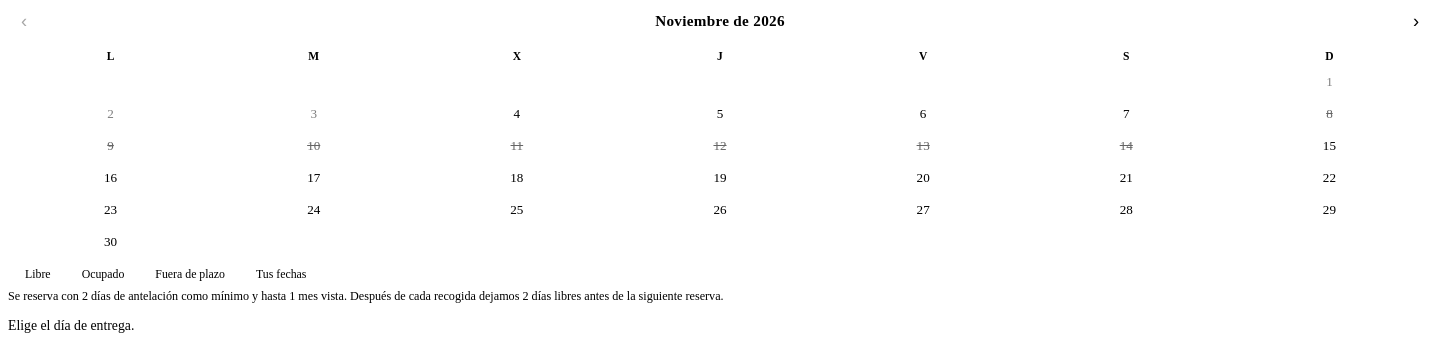
Test: CalendarioReserva — elegir las fechas › el primer clic es la entrega y el segundo la recogida
Expected: the text with class "cal-reserva-instrucciones" reads "Elige el día de entrega.", [8,318,134,333]
Click the button named "miércoles, 4 de noviembre de 2026". click: coordinates (517, 114)
box: [416,99,617,129]
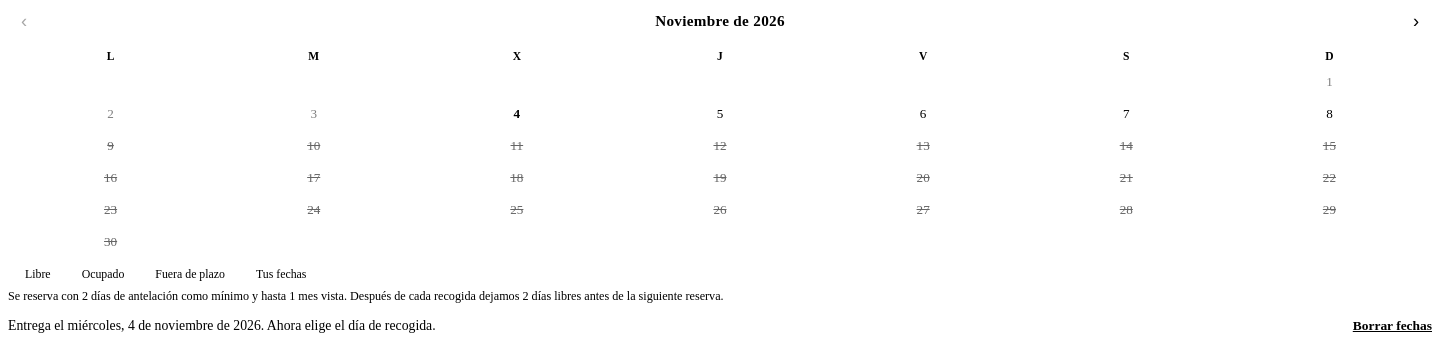
Expected: the button named "domingo, 8 de noviembre de 2026" is enabled, [1229,99,1430,129]
Expected: the text with class "cal-reserva-instrucciones" reads "Entrega el miércoles, 4 de noviembre de 2026. Ahora elige el día de recogida.", [8,318,436,333]
Expected: the button named "domingo, 15 de noviembre de 2026, no disponible: ocupado" is disabled, [1229,131,1430,161]
Click the button named "sábado, 7 de noviembre de 2026". click: coordinates (1126, 114)
box: [1026,99,1227,129]
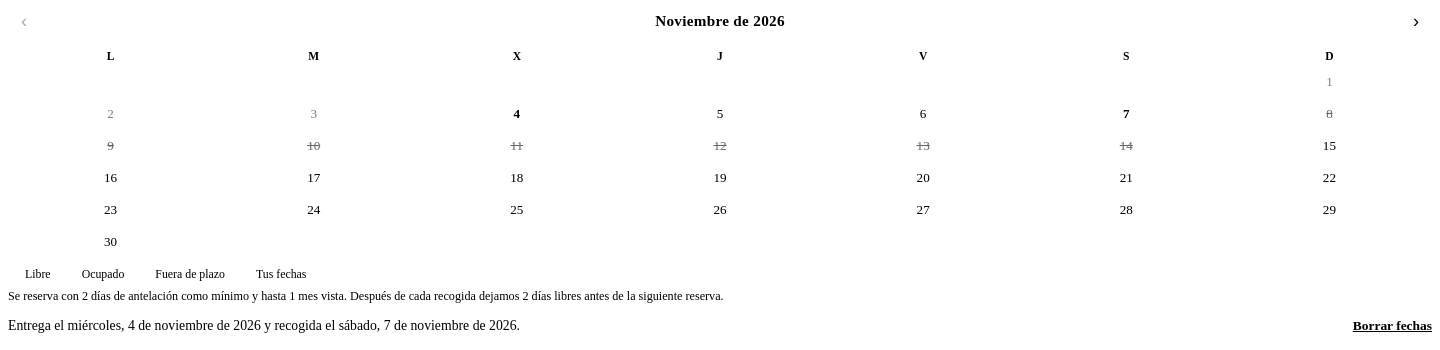
Expected: the text with class "cal-reserva-instrucciones" shows "Entrega el miércoles, 4 de noviembre de 2026 y recogida el sábado, 7 de noviembre de 2026.", [8,318,520,333]
